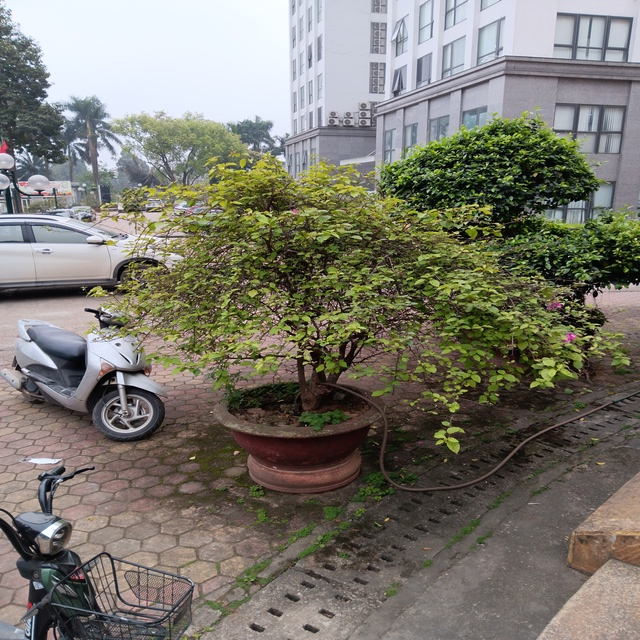caycanh: (99, 149, 510, 505), (389, 111, 640, 410)
